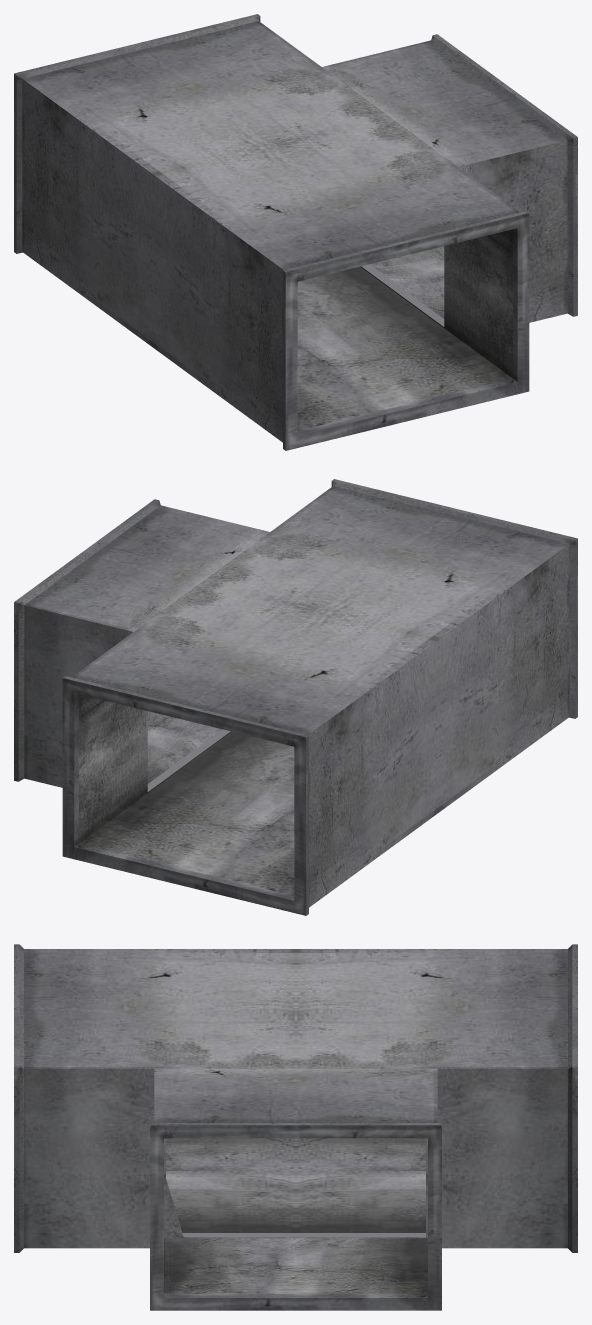
File: pipe4.fbx
3 views of the same model, one above another, from view 1: azimuth 30°, elevation 25°; view 2: azimuth 150°, elevation 25°; view 3: azimuth 270°, elevation 25° (orthographic). The views are drawn at different scales.
Visible parts, largest first — view 1: Cube.004; view 2: Cube.004; view 3: Cube.004.
Part boxes in pixels (x1,y1,x2,y2): Cube.004: [14, 14, 577, 450]; Cube.004: [14, 479, 577, 915]; Cube.004: [14, 944, 577, 1310].
Size of the model in its own units: 303 by 144 by 398.
